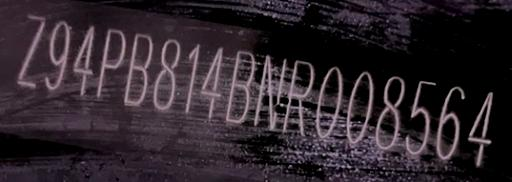letter: (252, 52, 290, 130), (14, 10, 48, 91), (282, 56, 316, 136), (402, 77, 436, 154), (434, 84, 468, 160), (374, 72, 406, 149), (314, 62, 346, 138), (465, 90, 497, 166), (225, 49, 257, 123), (123, 33, 155, 106), (344, 67, 374, 144), (94, 27, 126, 98), (151, 37, 181, 110), (44, 19, 72, 90), (70, 24, 96, 99), (199, 45, 225, 120), (182, 42, 202, 114)
